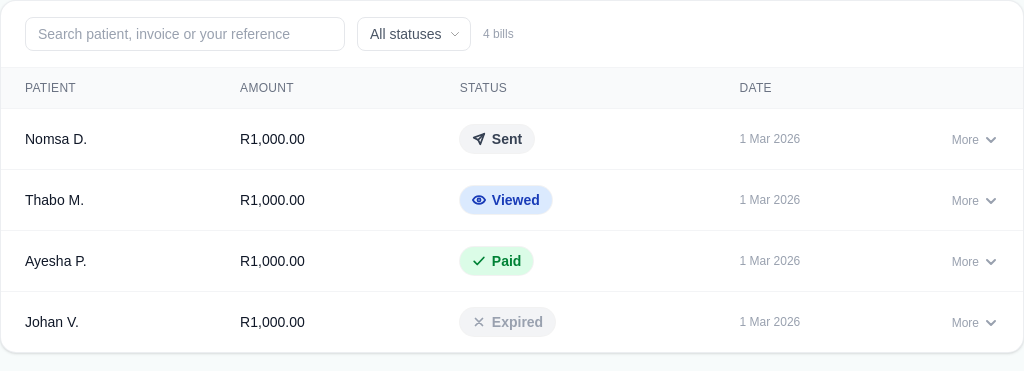
Test: searching › clears both at once
Type "nomsa" into the search field with test id "bills-search" at [185, 34], box [25, 17, 345, 51]
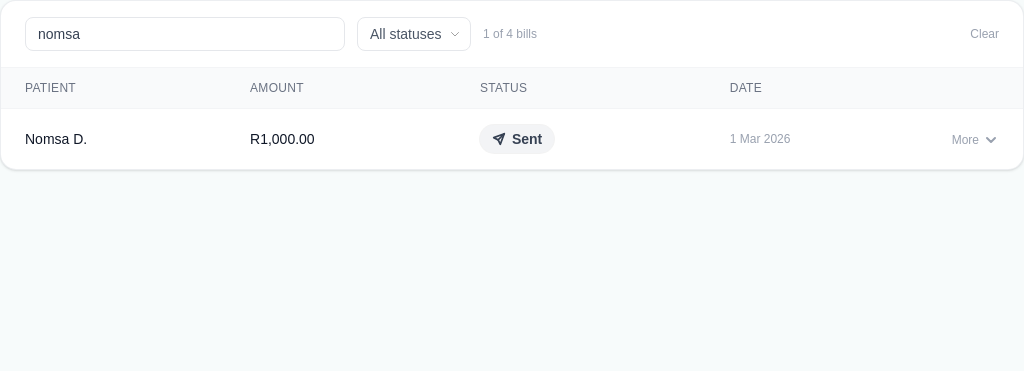
Select "Sent (1)" in the dropdown with test id "bills-status-filter" at [414, 34], box [357, 17, 471, 51]
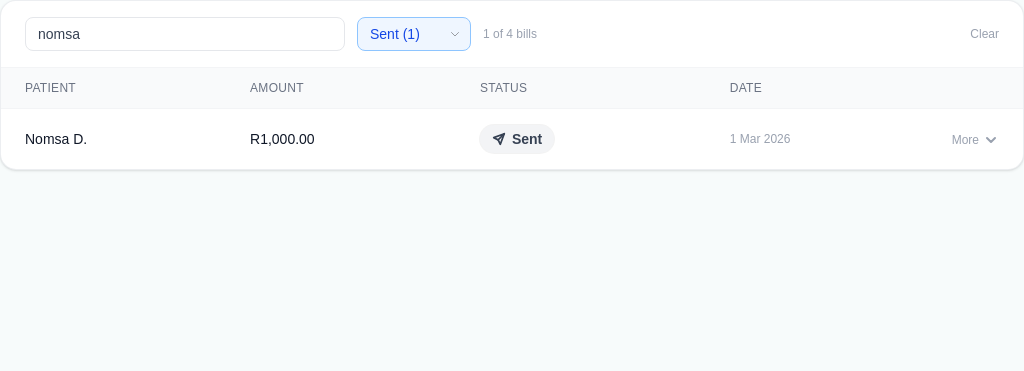
Click the button with test id "bills-clear" at [985, 34], box [970, 26, 999, 42]
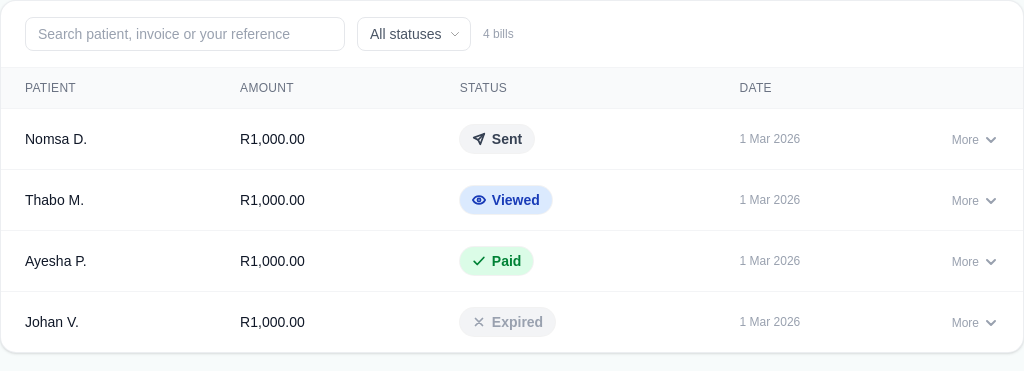
Result: the text with test id "bills-count" reads "4 bills" at [483, 27, 514, 41]
